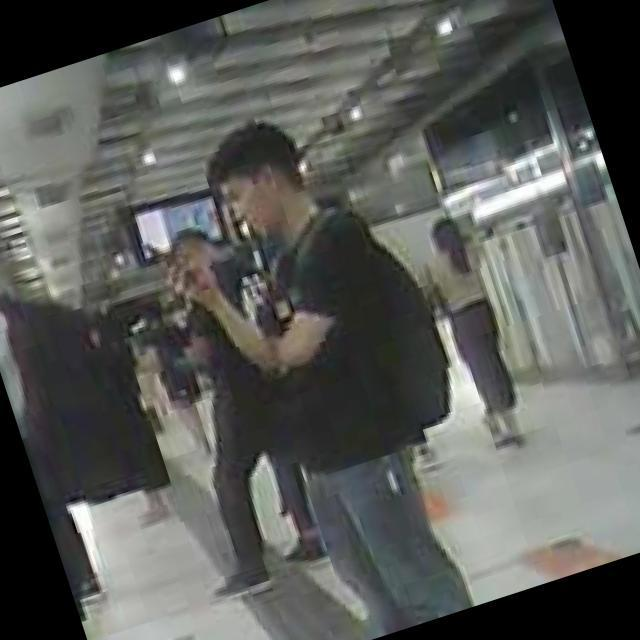person: (129, 96, 498, 640), (100, 218, 338, 602), (412, 208, 542, 457), (130, 300, 220, 457)
